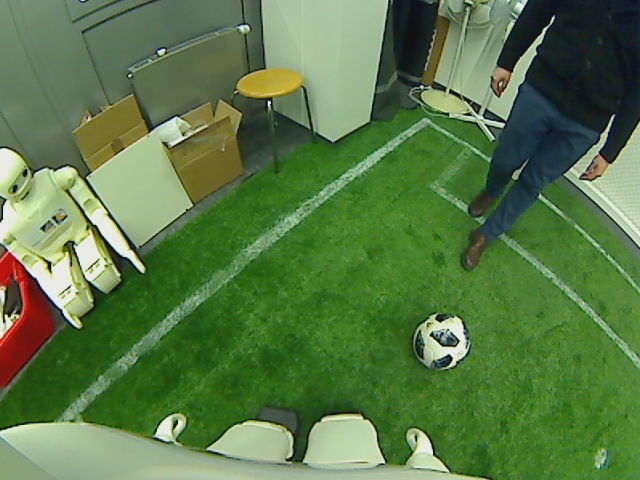ball: (410, 310, 471, 373)
